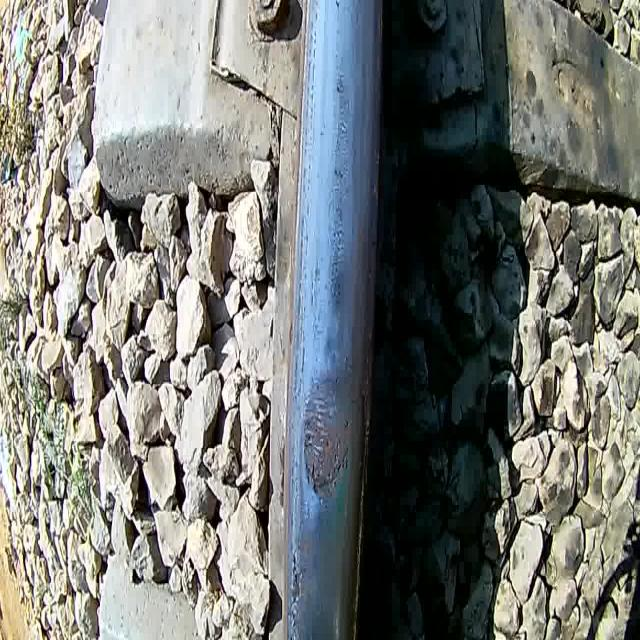Squats: (294, 363, 361, 512), (285, 528, 314, 640)
